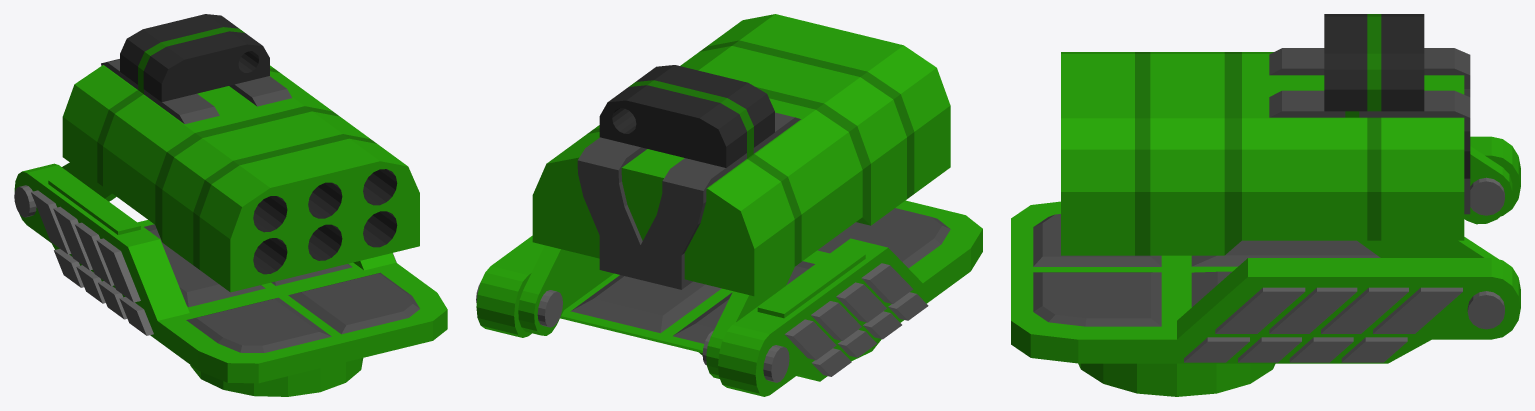
File: Cabina2.fbx
The picture shows the model from 3 angles, left to right: view 1: azimuth 30°, elevation 25°; view 2: azimuth 150°, elevation 25°; view 3: azimuth 270°, elevation 25°; orthographic projection. The views are drawn at different scales.
Parts seen in each view (by area): view 1: Gun_22.001; view 2: Gun_22.001; view 3: Gun_22.001.
Part boxes in pixels (box(x1,y1,x2,y2)): Gun_22.001: box(14, 14, 447, 396); Gun_22.001: box(476, 14, 982, 396); Gun_22.001: box(1011, 14, 1520, 396).
Bounding box in the file's own units: 111 × 110 × 161.
